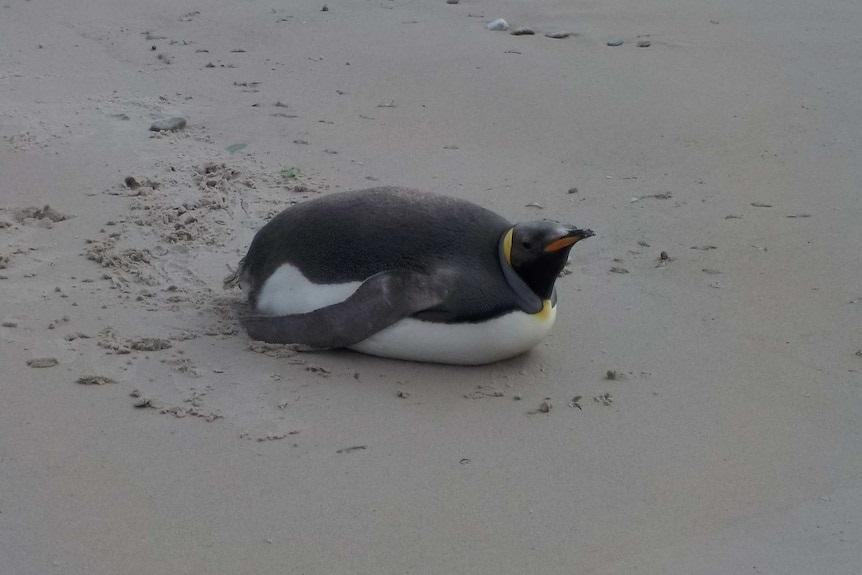king: (180, 147, 630, 434)
